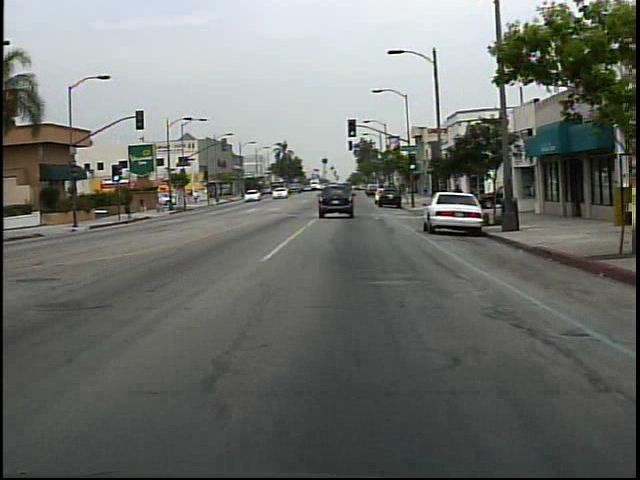person: (447, 179, 468, 217), (134, 191, 153, 220), (193, 188, 202, 207)
